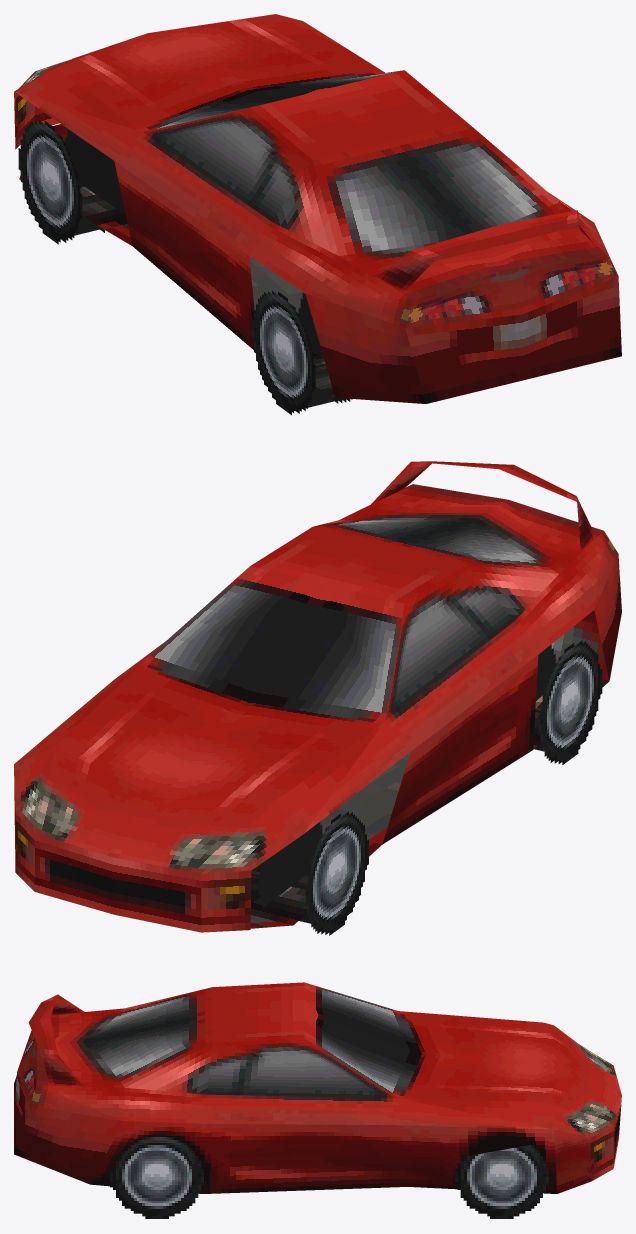
The model's file is car-tsupra.glb.
The picture shows the model from 3 angles, top to bottom: view 1: azimuth 30°, elevation 25°; view 2: azimuth 150°, elevation 25°; view 3: azimuth 270°, elevation 25°; orthographic projection. The views are drawn at different scales.
Visible parts, largest first — view 1: car-tsupra; view 2: car-tsupra; view 3: car-tsupra.
Boxes of the visible parts, box(x1,y1,x2,y2) form: car-tsupra: box(14, 14, 621, 415); car-tsupra: box(14, 461, 621, 935); car-tsupra: box(14, 982, 621, 1218).
Size of the model in its own units: 1.89 by 1.3 by 4.55.
33 materials, 33 textured.
